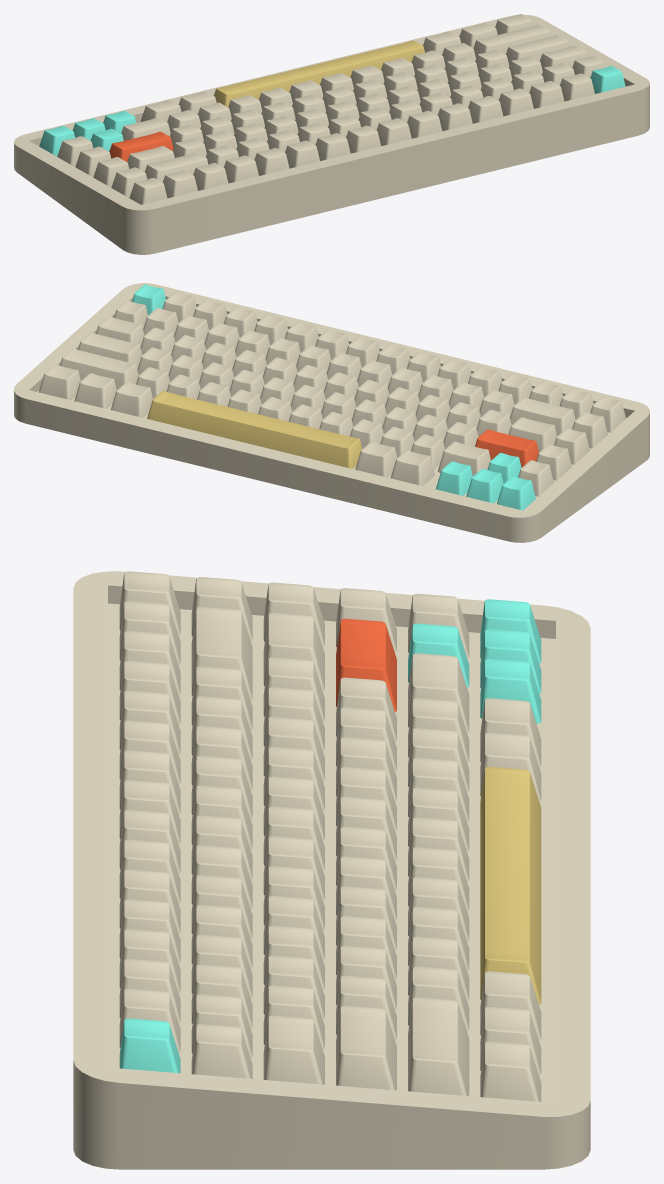
File: keyboard.glb
3 views of the same model, one above another, from view 1: azimuth 30°, elevation 25°; view 2: azimuth 150°, elevation 25°; view 3: azimuth 270°, elevation 25° (orthographic). The views are drawn at different scales.
Parts seen in each view (by area): view 1: keyboard, others, space, enter, escape, shift, backspace, g, ;, w, f, x (+28 smaller); view 2: others, keyboard, space, enter, shift, backspace, /, ], z, a, l, q (+28 smaller); view 3: keyboard, others, space, enter, escape, shift, backspace, z, q, u, ], w (+28 smaller).
Boxes of the visible parts, bbox=[...] form: keyboard: bbox=[14, 14, 649, 254]; others: bbox=[39, 14, 605, 204]; space: bbox=[214, 40, 424, 107]; enter: bbox=[109, 131, 173, 161]; escape: bbox=[590, 66, 625, 93]; shift: bbox=[121, 117, 170, 140]; backspace: bbox=[127, 146, 174, 171]; g: bbox=[353, 79, 387, 103]; ;: bbox=[200, 117, 234, 140]; w: bbox=[478, 63, 512, 86]; f: bbox=[383, 72, 417, 95]; x: bbox=[411, 50, 445, 73]; others: bbox=[39, 292, 625, 510]; keyboard: bbox=[14, 283, 649, 542]; space: bbox=[147, 391, 362, 468]; enter: bbox=[475, 429, 538, 467]; shift: bbox=[438, 441, 490, 476]; backspace: bbox=[508, 417, 557, 452]; /: bbox=[411, 434, 444, 469]; ]: bbox=[476, 409, 511, 436]; z: bbox=[136, 367, 169, 398]; a: bbox=[137, 347, 172, 374]; l: bbox=[382, 407, 417, 434]; q: bbox=[140, 327, 175, 354]; keyboard: bbox=[73, 571, 590, 1169]; others: bbox=[119, 571, 541, 1101]; space: bbox=[480, 766, 541, 1004]; enter: bbox=[336, 618, 396, 711]; escape: bbox=[119, 1018, 180, 1073]; shift: bbox=[408, 653, 469, 732]; backspace: bbox=[263, 613, 324, 690]; z: bbox=[408, 966, 469, 1030]; q: bbox=[263, 985, 324, 1049]; u: bbox=[263, 806, 324, 870]; ]: bbox=[263, 657, 324, 721]; w: bbox=[263, 955, 324, 1019].
Bounding box in the file's own units: 0.6745 × 0.0675 × 0.2883.
